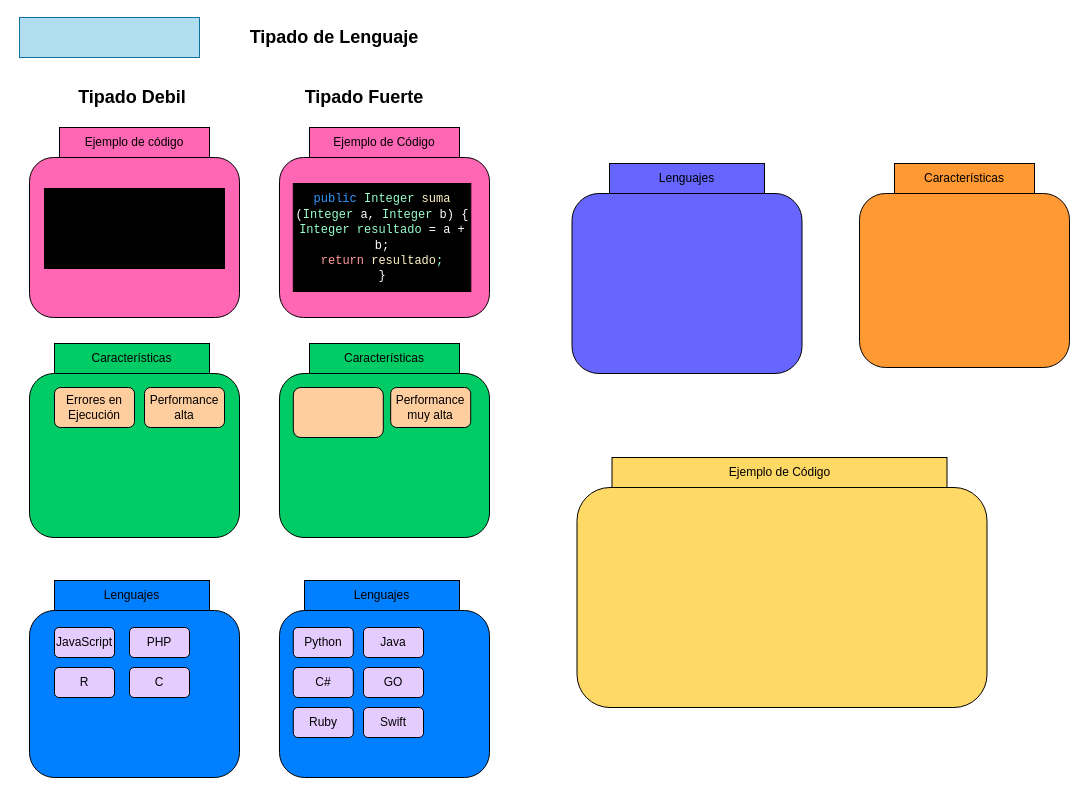
Image size: 1087x795. Some labels were removed from this diagram. The centre of each missing label's shape, as x and y in pixels:
"Actividad N° 1:" belongs at pixel 109 37.
"Errores antes de la compilación" belongs at pixel 337 412.
"function suma ( a , b ) { var resultado = a + b ; return resultado; }" belongs at pixel 134 228.
